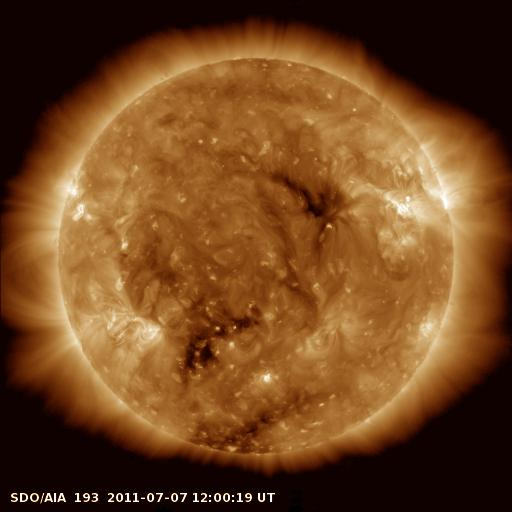coronal_hole: (179, 313, 261, 372), (189, 406, 278, 456), (272, 170, 337, 226)
